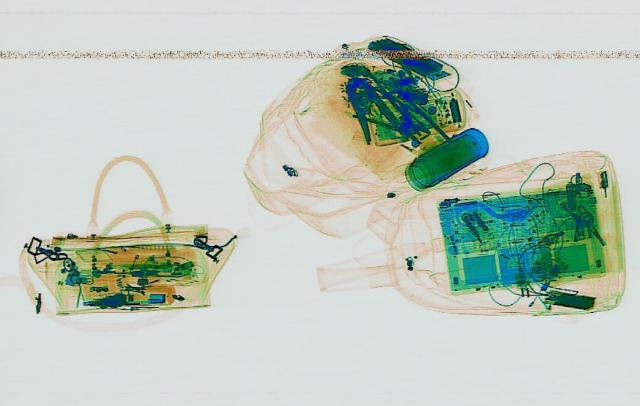Pliers: (332, 73, 410, 144)
